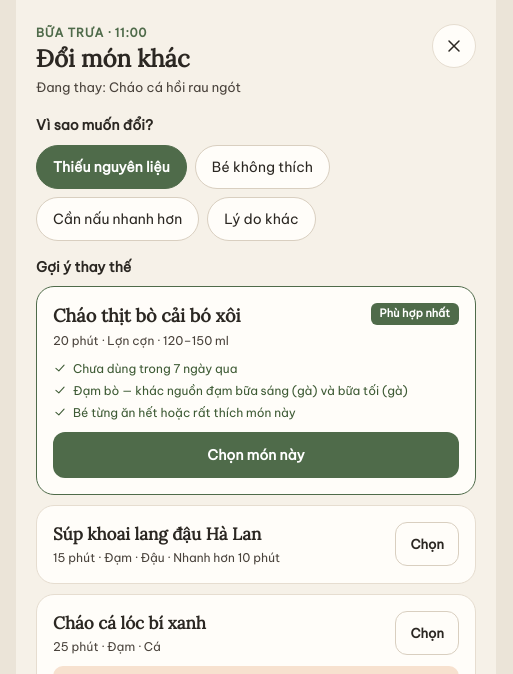
Test: Swap (S02) › explains a refusal and reloads the suggestions (dish no longer safe)
The width and height of the screenshot is (513, 674).
Click the button "Chọn món này".
click(256, 455)  # box [53,432,459,478]
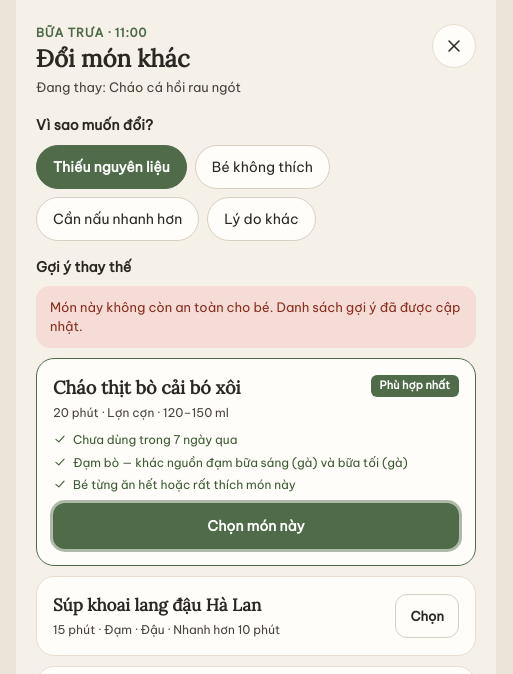
expect the text "Món này không còn an toàn cho bé. Danh sách gợi ý đã được cập nhật." is shown: met, box [50,298,462,336]
